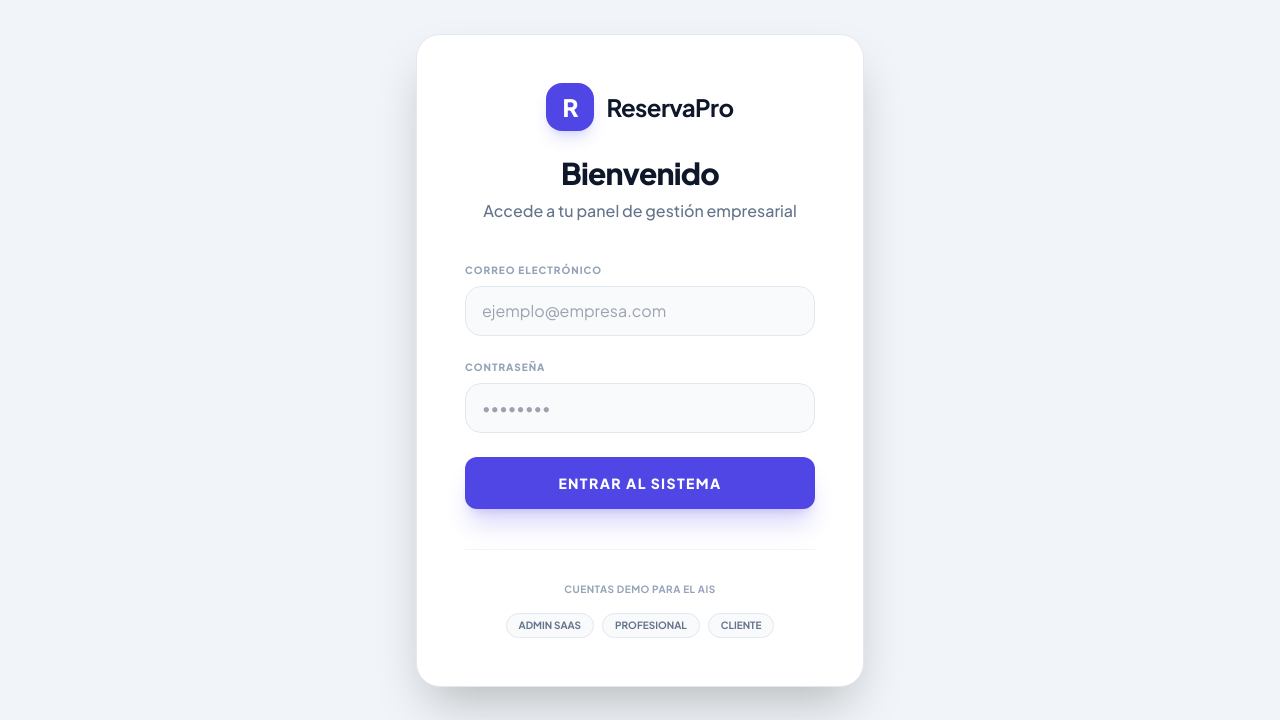
Test case: Pruebas del módulo profesional › 8) Crear reserva manual => aparece en agenda
In the field with test id "login-email": (640, 311) [465,286,815,336], type "roberto@saludplus.com"
In the password field with test id "login-password": (640, 408) [465,383,815,433], type "propassword"
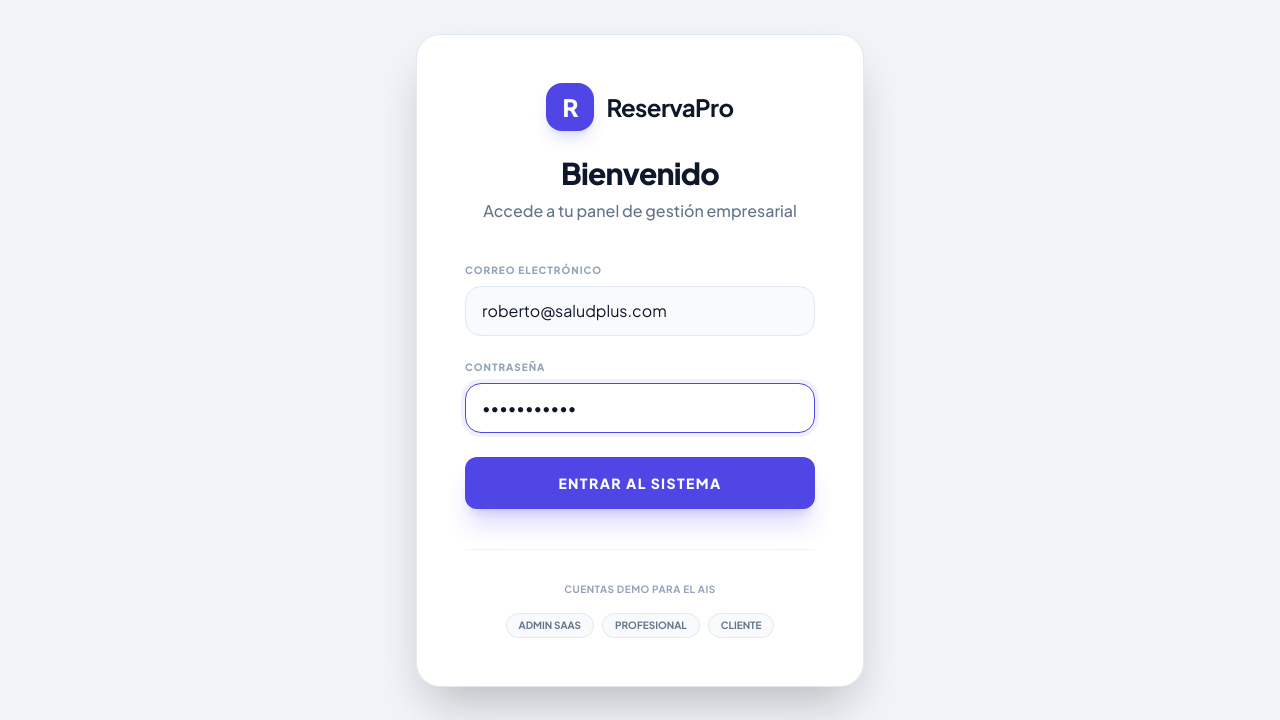
Click the button with test id "login-submit": (640, 483) [465,457,815,509]
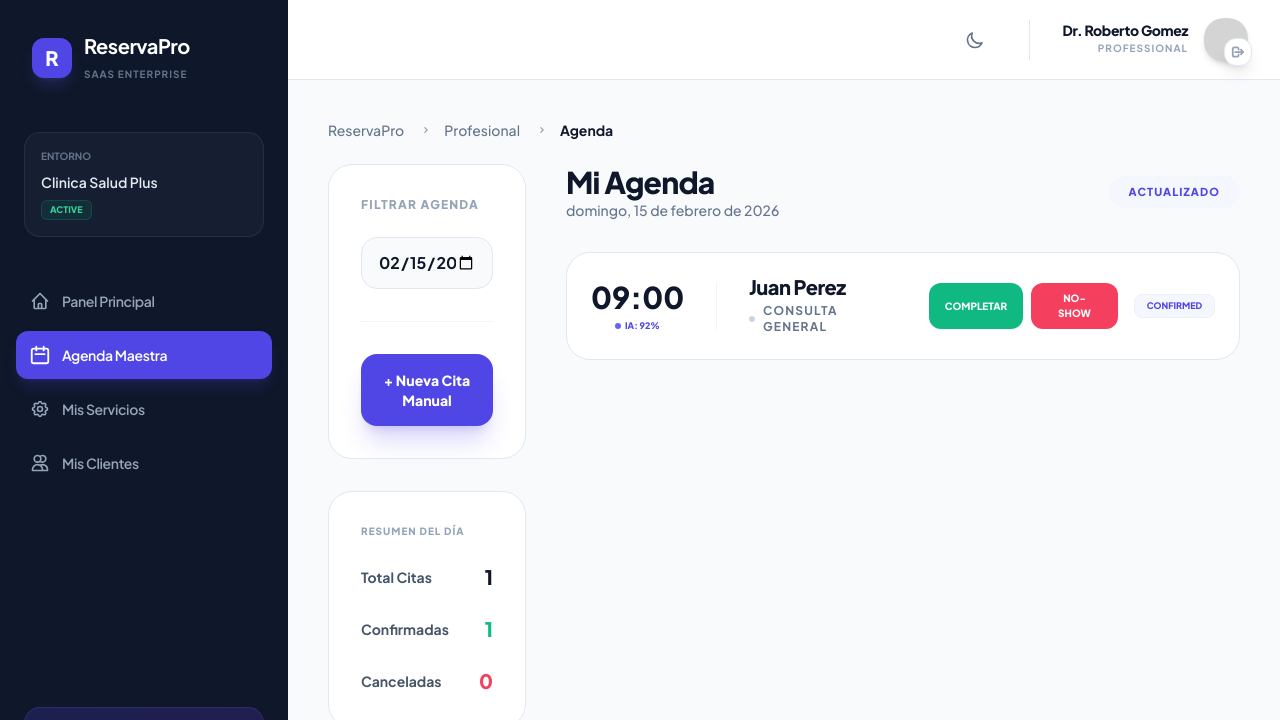
Click the button with test id "open-manual-booking-btn": (427, 390) [361,354,493,426]
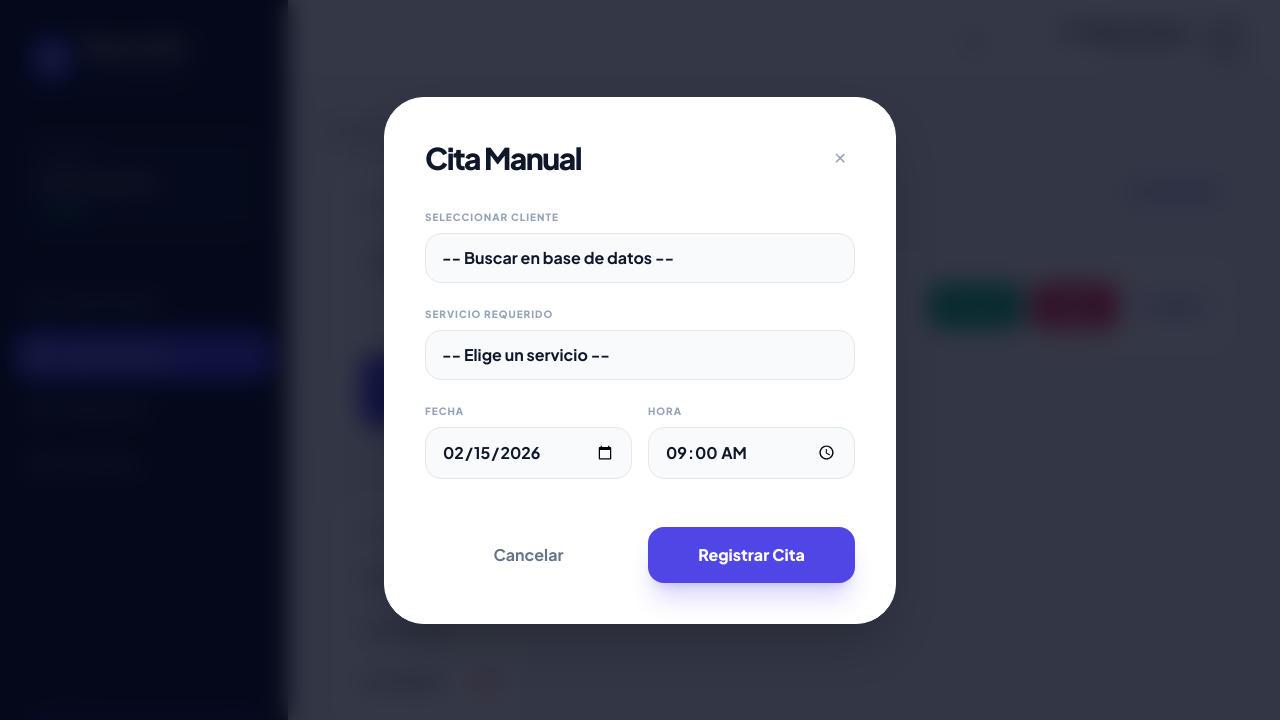
Select "Juan Perez" in the dropdown with test id "manual-client-select": (640, 258) [425,233,855,283]
Select "Consulta General ($50)" in the dropdown with test id "manual-service-select": (640, 355) [425,330,855,380]
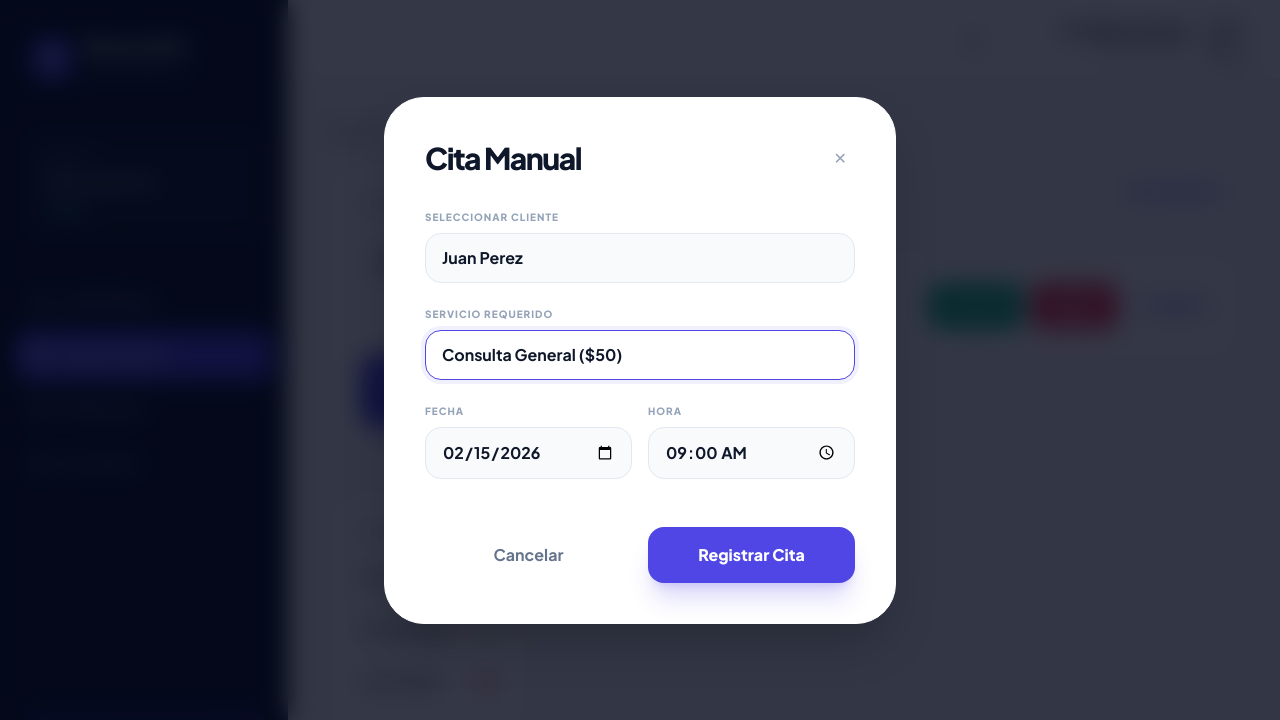
In the time field with test id "manual-time-input": (752, 453) [648,427,855,479], type "11:00"
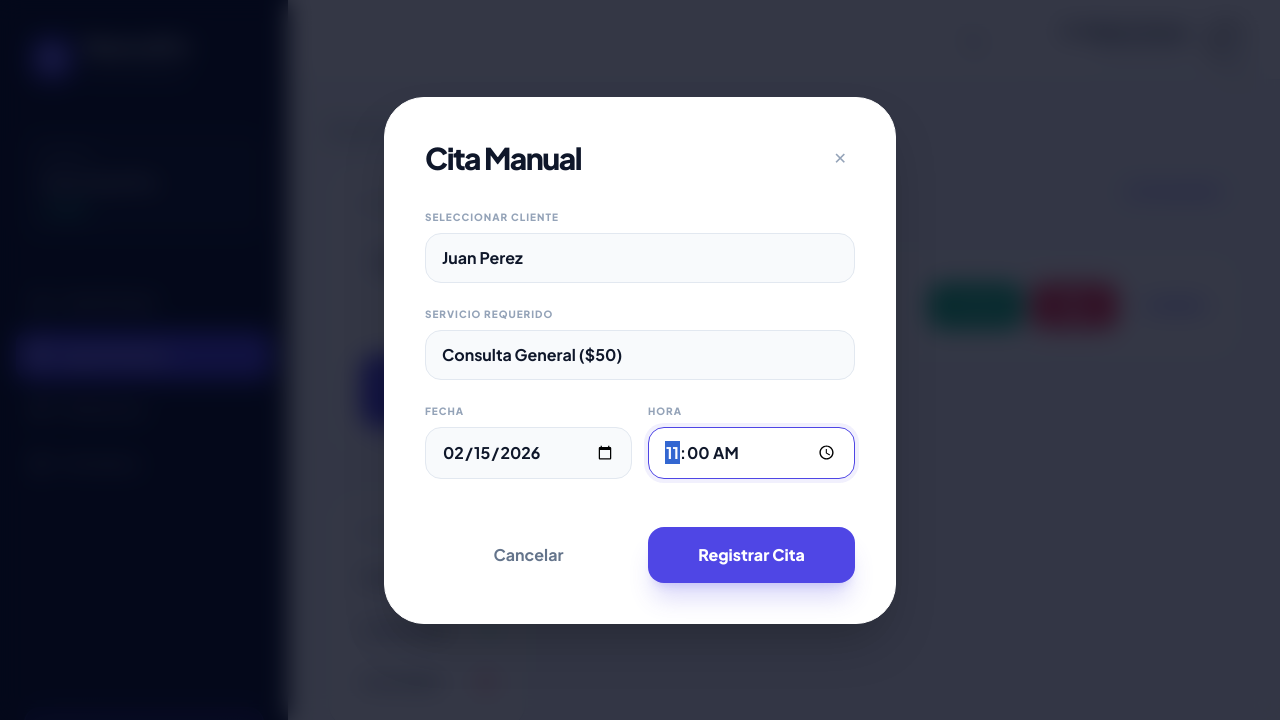
Click the button with test id "manual-submit-btn": (752, 555) [648,527,855,583]
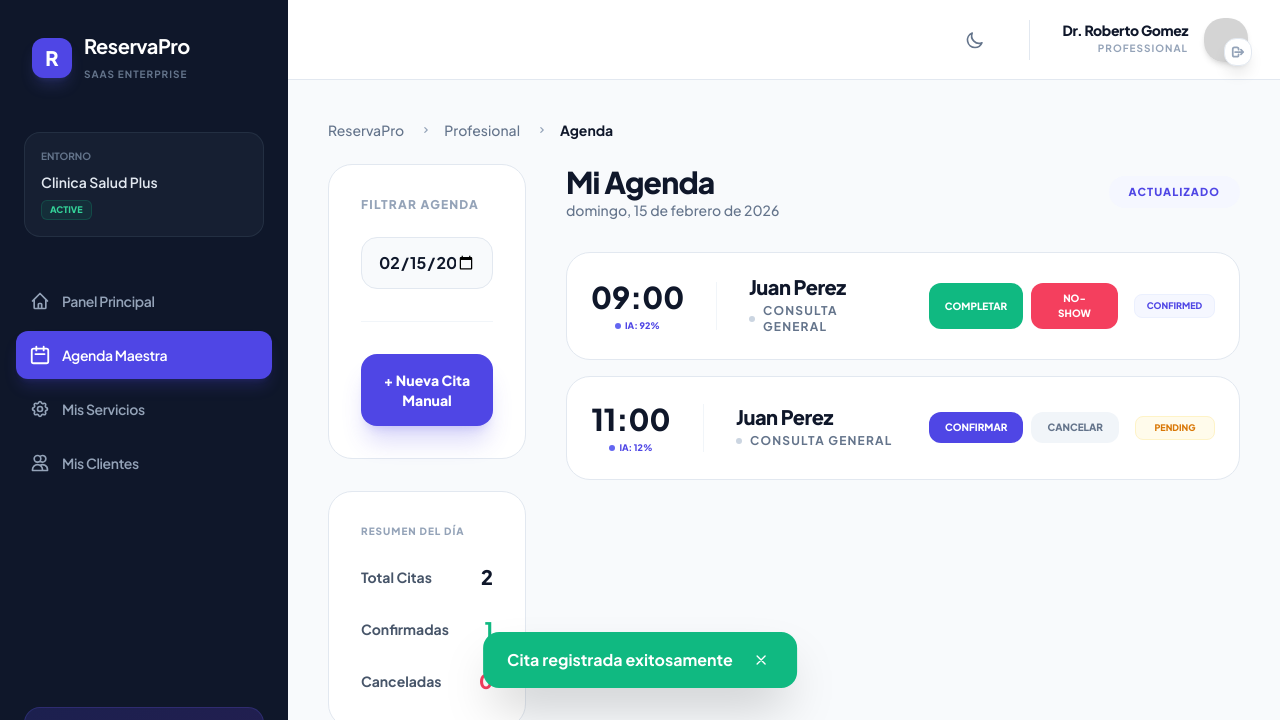
Result: the text "Juan Perez" next to "09:00" is shown at [749,274,846,299]
Result: the text "11:00" is shown at [591,401,671,437]
